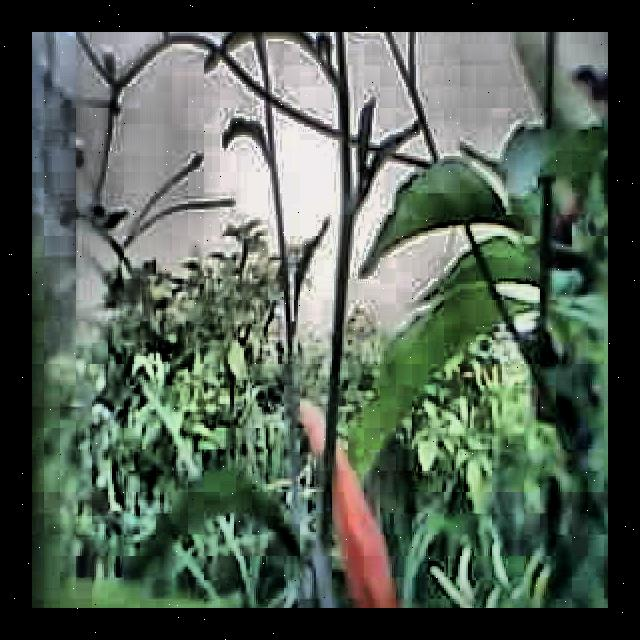Cabai: (298, 395, 404, 608)
